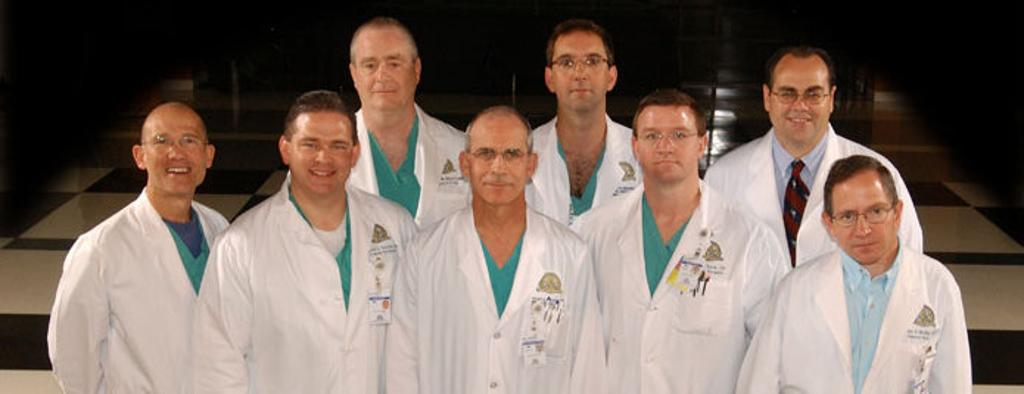face: (148, 112, 210, 198), (826, 186, 892, 264), (468, 120, 524, 202), (292, 116, 352, 192), (774, 62, 830, 138), (356, 36, 416, 106), (640, 108, 692, 182), (552, 34, 604, 106)
